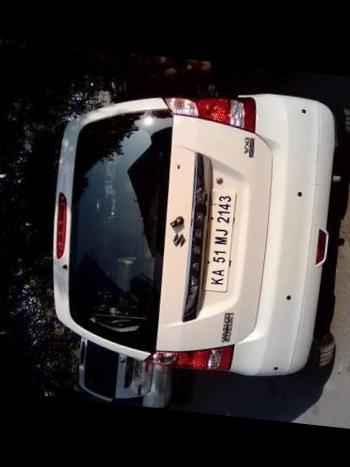plate: (199, 181, 246, 294)
